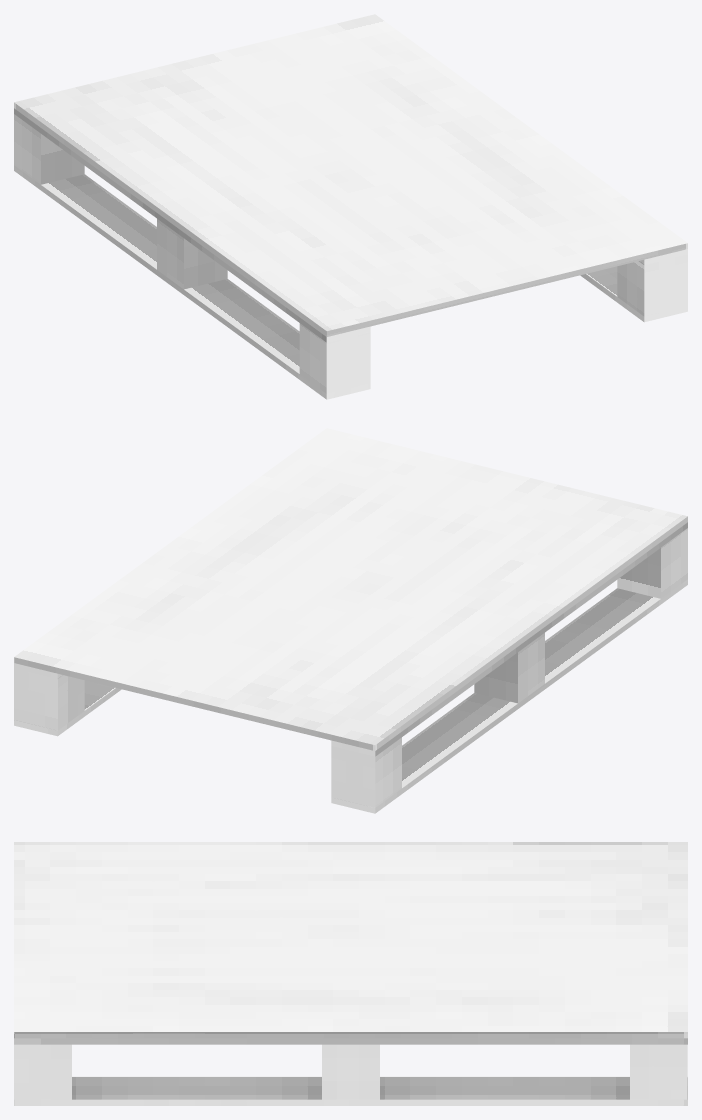
Rendered from WoodenBoardPalletEuro.glb.
3 renders of one model, top to bottom at view 1: azimuth 30°, elevation 25°; view 2: azimuth 150°, elevation 25°; view 3: azimuth 270°, elevation 25°, orthographic. The views are drawn at different scales.
Parts seen in each view (by area): view 1: WoodenBoardPalletEuro; view 2: WoodenBoardPalletEuro; view 3: WoodenBoardPalletEuro.
Part boxes in pixels (x1,y1,x2,y2): WoodenBoardPalletEuro: [14, 14, 687, 399]; WoodenBoardPalletEuro: [14, 428, 687, 813]; WoodenBoardPalletEuro: [14, 842, 687, 1105].
Bounding box in the file's own units: 0.8 × 0.145 × 1.2.
Materials: 1 (1 with a texture image).
